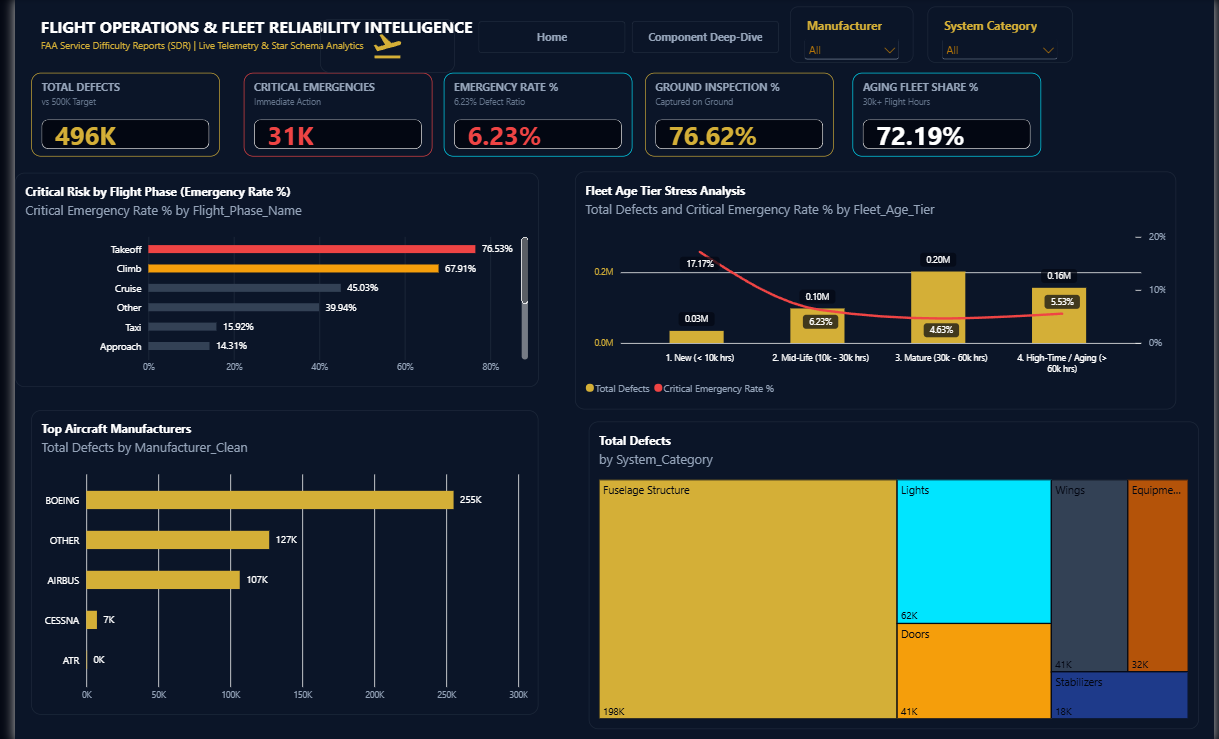

This screenshot's page, from the dashboard's own definition file:
{"tool":"powerbi","page":{"name":"Executive Command Center","canvas":[1500,930],"ordinal":1},"visuals":[{"type":"textbox","box":[20,10,660,70],"z":0},{"type":"pageNavigator","box":[567.6,15.6,401.8,64.1],"z":1000},{"type":"slicer","fields":{"Values":["Dim_Aircraft.Manufacturer_Clean"]},"box":[969.4,9.4,154.8,70.4],"z":2000},{"type":"slicer","fields":{"Values":["Dim_System.System_Category"]},"box":[1141.4,9.4,181.4,70.4],"z":3000},{"type":"cardVisual","title":"TOTAL DEFECTS","fields":{"Data":["Measures_Table.Total Defects"]},"box":[20,91.7,236,105],"z":4000},{"type":"cardVisual","title":"CRITICAL EMERGENCIES","fields":{"Data":["Measures_Table.Critical Emergencies"]},"box":[286.7,91.7,236,105],"z":5000},{"type":"cardVisual","title":"EMERGENCY RATE %","fields":{"Data":["Measures_Table.Critical Emergency Rate %"]},"box":[536.7,91.7,236,105],"z":6000},{"type":"cardVisual","title":"GROUND INSPECTION %","fields":{"Data":["Measures_Table.Ground Inspection Rate %"]},"box":[788.3,91.7,236,105],"z":7000},{"type":"cardVisual","title":"AGING FLEET SHARE %","fields":{"Data":["Measures_Table.Aging Fleet Share %"]},"box":[1048.3,91.7,236,105],"z":8000},{"type":"barChart","title":"Critical Risk by Flight Phase (Emergency Rate %)","fields":{"Category":["Fact_Defects.Flight_Phase_Name"],"Y":["Measures_Table.Critical Emergency Rate %"]},"box":[0,216.7,655,268.3],"z":9000},{"type":"lineClusteredColumnComboChart","title":"Fleet Age Tier Stress Analysis","fields":{"Category":["Fact_Defects.Fleet_Age_Tier"],"Y":["Measures_Table.Total Defects"],"Y2":["Measures_Table.Critical Emergency Rate %"]},"box":[700.6,215.3,751.9,297.3],"z":10000},{"type":"barChart","title":"Top Aircraft Manufacturers","fields":{"Category":["Dim_Aircraft.Manufacturer_Clean"],"Y":["Measures_Table.Total Defects"]},"box":[19.7,514,634.3,380.6],"z":11000},{"type":"treemap","fields":{"Group":["Dim_System.System_Category"],"Values":["Measures_Table.Total Defects"]},"box":[717.7,528.5,763,384.6],"z":12000},{"type":"image","box":[381.5,25,168.9,67.2],"z":12001}]}

Visuals, with their boxes in screenshot pixels (x1, y1, x2, y2), scaled from the page's 1500x930 canvas onto the 1219x739 screenshot:
textbox: l=16, t=8, r=553, b=64
pageNavigator: l=461, t=12, r=788, b=63
slicer - Dim_Aircraft.Manufacturer_Clean: l=788, t=7, r=914, b=63
slicer - Dim_System.System_Category: l=928, t=7, r=1075, b=63
"TOTAL DEFECTS" cardVisual: l=16, t=73, r=208, b=156
"CRITICAL EMERGENCIES" cardVisual: l=233, t=73, r=425, b=156
"EMERGENCY RATE %" cardVisual: l=436, t=73, r=628, b=156
"GROUND INSPECTION %" cardVisual: l=641, t=73, r=832, b=156
"AGING FLEET SHARE %" cardVisual: l=852, t=73, r=1044, b=156
"Critical Risk by Flight Phase (Emergency Rate %)" barChart: l=0, t=172, r=532, b=385
"Fleet Age Tier Stress Analysis" lineClusteredColumnComboChart: l=569, t=171, r=1180, b=407
"Top Aircraft Manufacturers" barChart: l=16, t=408, r=531, b=711
treemap - Dim_System.System_Category x Measures_Table.Total Defects: l=583, t=420, r=1203, b=726
image: l=310, t=20, r=447, b=73
